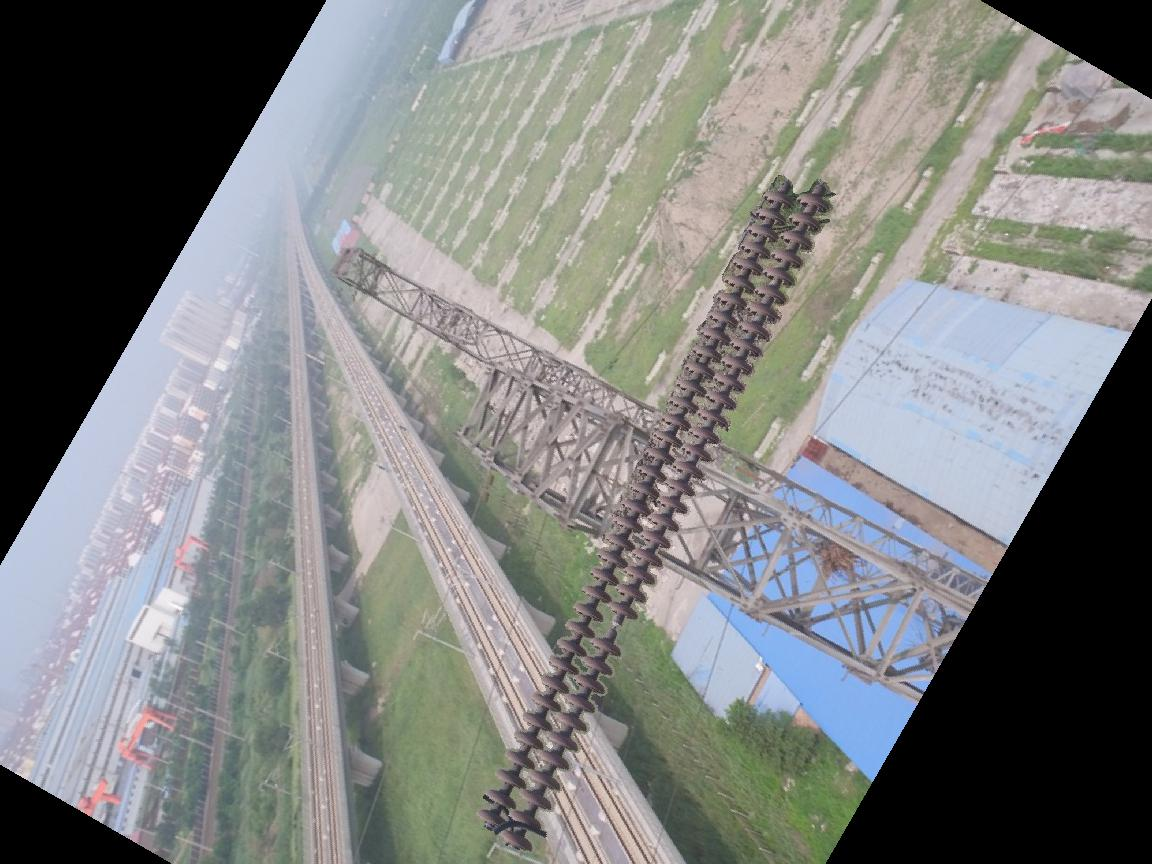insulator: (474, 174, 833, 857)
insulator_stringdrop: (589, 595, 640, 660)
